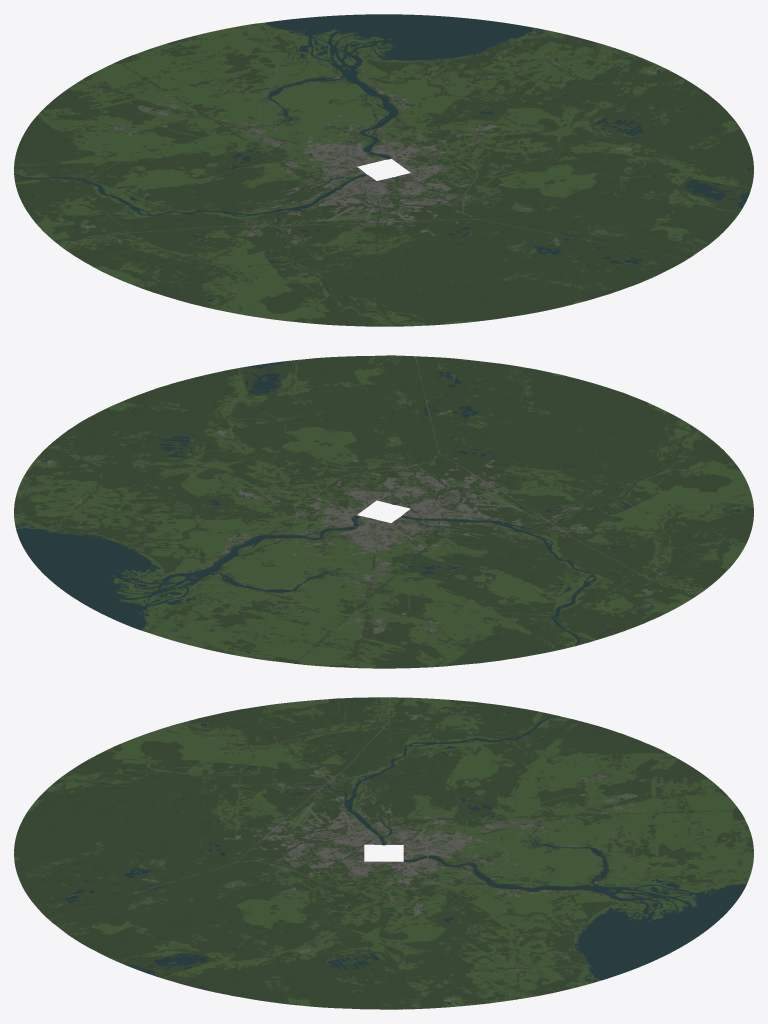
File: horizon.glb
3 renders of one model, top to bottom at view 1: azimuth 30°, elevation 25°; view 2: azimuth 150°, elevation 25°; view 3: azimuth 270°, elevation 25°, orthographic.
Parts seen in each view (by area): view 1: horizon; view 2: horizon; view 3: horizon.
Boxes of the visible parts, x1,y1,x2,y2 form: horizon: (14,14,753,326); horizon: (14,355,753,668); horizon: (14,697,753,1009).
Bounding box in the file's own units: 36000 × 88.99 × 36000.
Materials: 1 (1 with a texture image).
